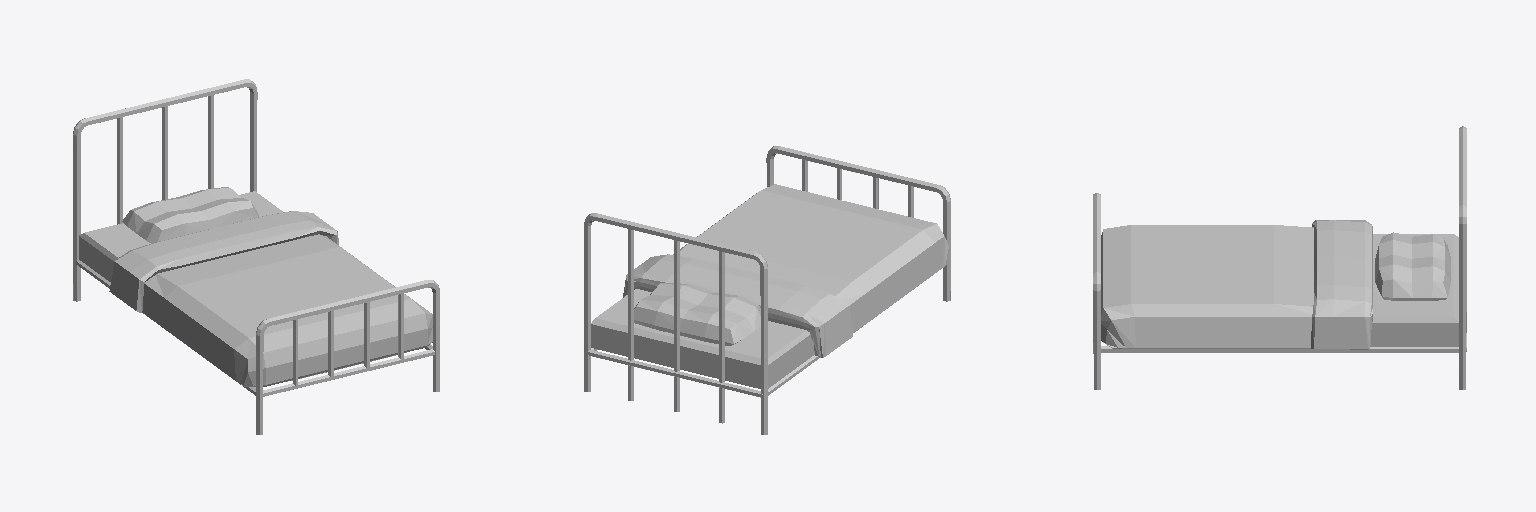
Rendered from EverythingLibrary_Furnishings_Bed.obj.
The picture shows the model from 3 angles: view 1: azimuth 30°, elevation 25°; view 2: azimuth 150°, elevation 25°; view 3: azimuth 270°, elevation 25°; orthographic projection.
Visible parts, largest first — view 1: color.002_Mesh.1265, base.011_Mesh.1266; view 2: base.011_Mesh.1266, color.002_Mesh.1265; view 3: color.002_Mesh.1265, base.011_Mesh.1266.
Boxes of the visible parts, box(x1,y1,x2,y2) form: color.002_Mesh.1265: box(142, 234, 432, 386); base.011_Mesh.1266: box(73, 79, 439, 434); base.011_Mesh.1266: box(584, 146, 950, 434); color.002_Mesh.1265: box(673, 184, 948, 332); color.002_Mesh.1265: box(1101, 225, 1313, 348); base.011_Mesh.1266: box(1093, 126, 1466, 389).
Size of the model in its own units: 1.38 by 1.16 by 2.18.